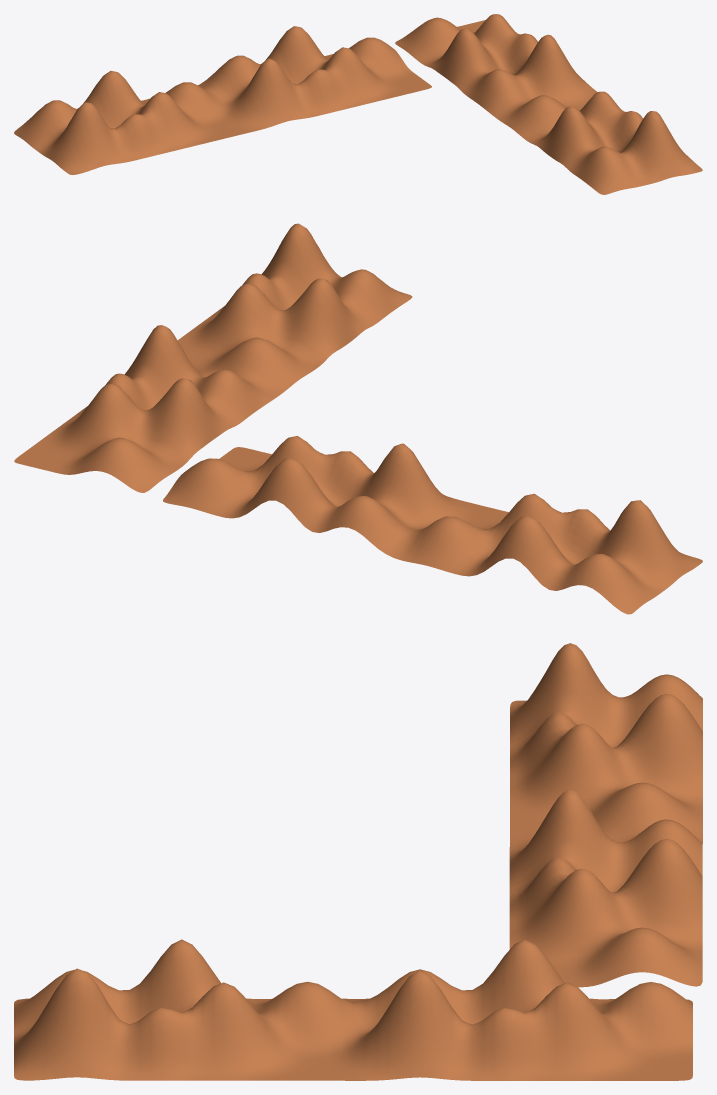
The model's file is Mountains.fbx.
3 renders of one model, top to bottom at view 1: azimuth 30°, elevation 25°; view 2: azimuth 150°, elevation 25°; view 3: azimuth 270°, elevation 25°, orthographic. The views are drawn at different scales.
Visible parts, largest first — view 1: Plane, Plane.001; view 2: Plane.001, Plane; view 3: Plane.001, Plane.
Part boxes in pixels (x1=…): Plane: x1=14, y1=26, x2=431, y2=174; Plane.001: x1=395, y1=14, x2=702, y2=194; Plane.001: x1=14, y1=223, x2=412, y2=492; Plane: x1=163, y1=436, x2=702, y2=614; Plane.001: x1=14, y1=939, x2=692, y2=1080; Plane: x1=509, y1=643, x2=702, y2=987.
Size of the model in its own units: 18467 by 1956 by 14137.
